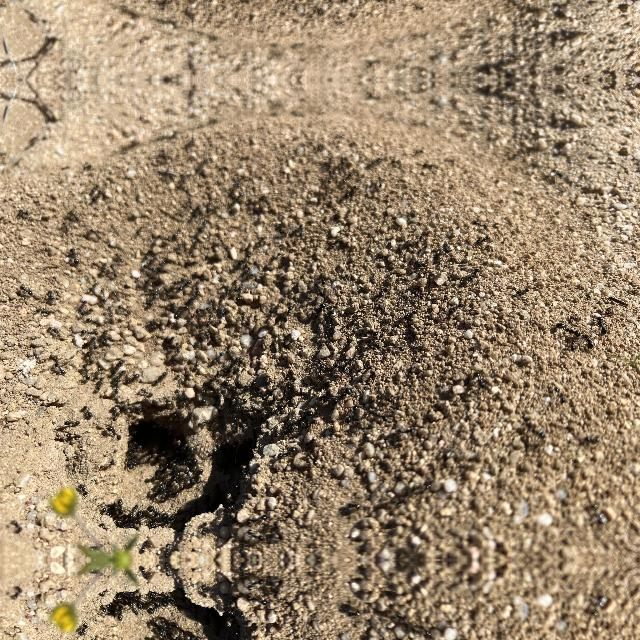Messor: (589, 498, 605, 530), (589, 590, 605, 622), (274, 442, 302, 460), (12, 280, 38, 298), (74, 482, 96, 501), (74, 620, 96, 638), (466, 213, 488, 230), (336, 498, 359, 514), (336, 606, 359, 622), (472, 232, 492, 250), (146, 284, 166, 302), (62, 246, 82, 264), (62, 418, 86, 432), (472, 369, 488, 389), (36, 308, 62, 320), (596, 314, 610, 336), (77, 400, 96, 416), (242, 530, 264, 542), (242, 578, 264, 590), (584, 335, 600, 351), (55, 362, 69, 380), (442, 242, 458, 256), (250, 513, 272, 523), (250, 597, 272, 607), (42, 288, 56, 302), (565, 338, 577, 354), (566, 324, 578, 338), (584, 434, 600, 444), (554, 318, 564, 332), (198, 304, 212, 314), (205, 331, 215, 343)
